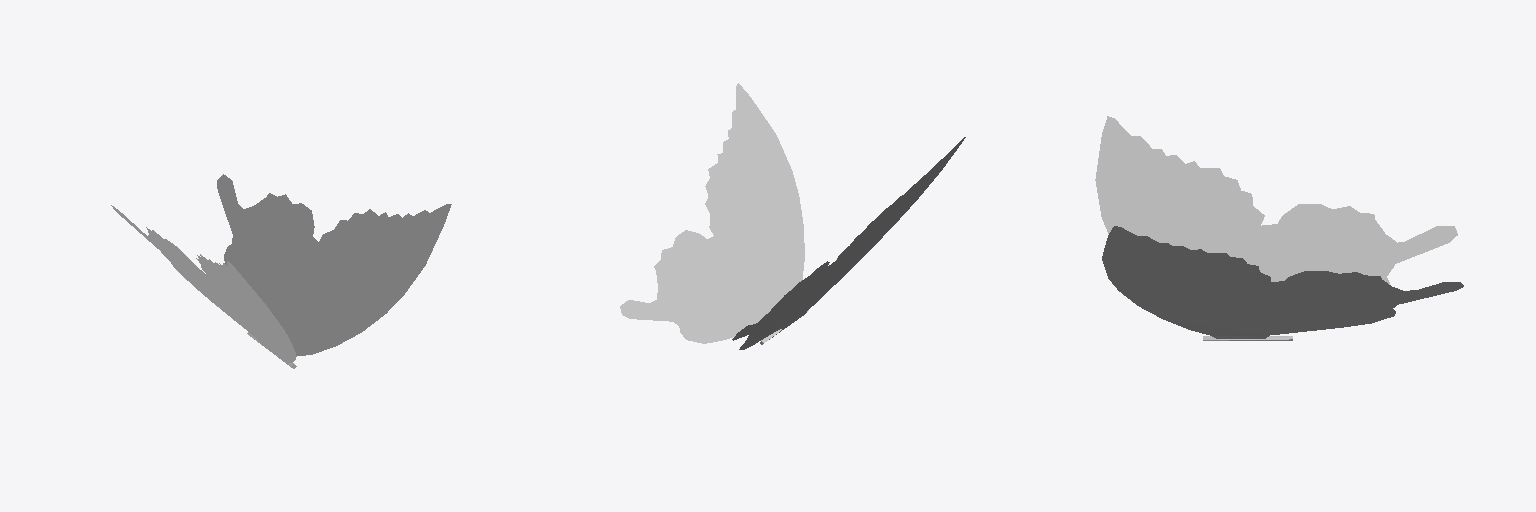
Rendered from mob_3.obj.
3 views of the same model, side by side, from view 1: azimuth 30°, elevation 25°; view 2: azimuth 150°, elevation 25°; view 3: azimuth 270°, elevation 25° (orthographic).
Visible parts, largest first — view 1: Cube; view 2: Cube; view 3: Cube.
Boxes of the visible parts, box(x1,y1,x2,y2) form: Cube: box(111, 174, 451, 368); Cube: box(620, 83, 965, 349); Cube: box(1095, 116, 1463, 340).
Size of the model in its own units: 1.38 by 0.9955 by 1.96.